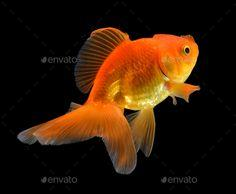goldfish: (39, 20, 216, 155)
